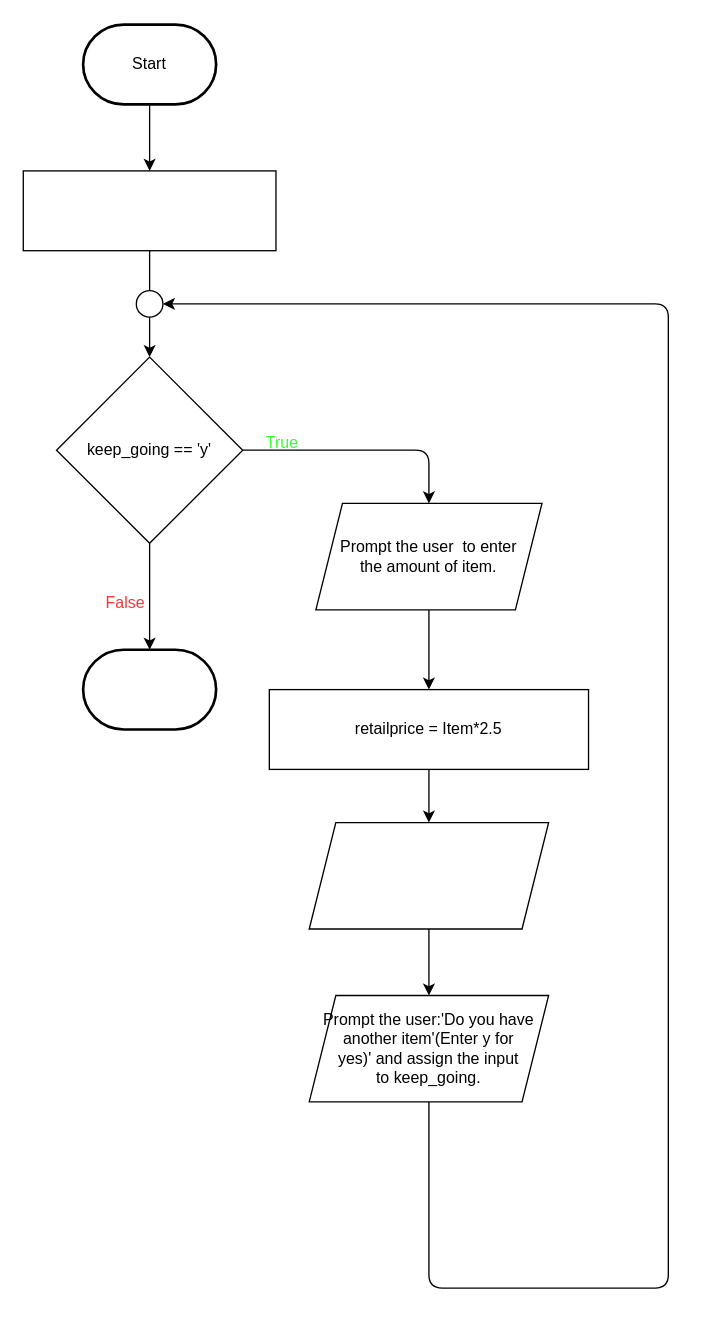
The diagram is 702 pixels wide and 1322 high, and some of its shapes have lost their labels. Here are the shapes that lost their labels. From the top down, the centre of each, then its label:
point 149,210: Assign 'y' to keep_going
point 149,689: End
point 428,875: Display the retail price
